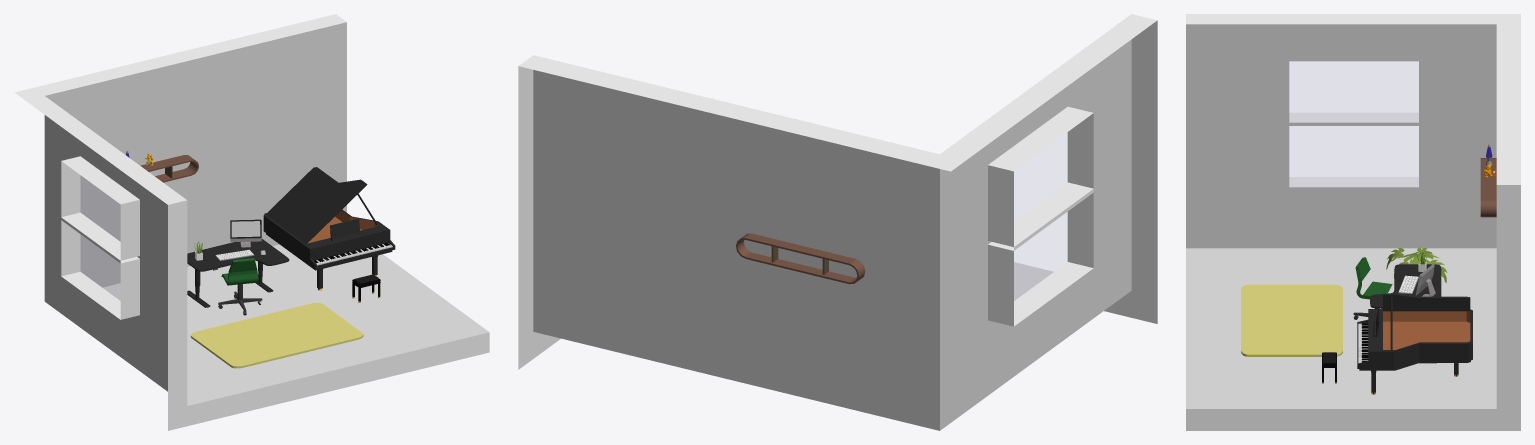
Rendered from testScene3.gltf.
The picture shows the model from 3 angles, left to right: view 1: azimuth 30°, elevation 25°; view 2: azimuth 150°, elevation 25°; view 3: azimuth 270°, elevation 25°; orthographic projection. The views are drawn at different scales.
Visible parts, largest first — view 1: Plane, Cube.002, WawaRug, Desk, Chair, SM_Shelf:SM_Shelf1, iMac; view 2: Plane, SM_Shelf:SM_Shelf1; view 3: Plane, Cube.002, WawaRug, Desk, SM_Shelf:SM_Shelf1, Chair, Houseplant_7, iMac.
Boxes of the visible parts, x1,y1,x2,y2 form: Plane: (14,14,489,430); Cube.002: (263,167,395,290); WawaRug: (190,303,363,368); Desk: (187,239,289,307); Chair: (218,258,262,315); SM_Shelf:SM_Shelf1: (140,155,198,182); iMac: (230,219,261,247); Plane: (518,14,1157,430); SM_Shelf:SM_Shelf1: (736,233,865,284); Plane: (1186,14,1520,430); Cube.002: (1357,293,1472,394); WawaRug: (1241,284,1342,356); Desk: (1370,264,1441,308); SM_Shelf:SM_Shelf1: (1480,158,1496,217); Chair: (1353,257,1392,319); Houseplant_7: (1386,247,1447,282); iMac: (1415,262,1435,296).
Bounding box in the file's own units: 8.04 × 5.4 × 6.65.
